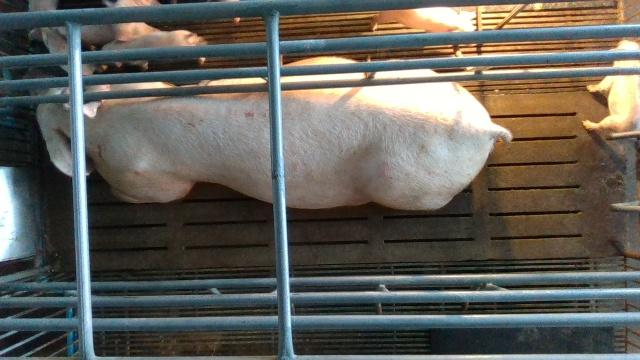piglet: (584, 39, 640, 132), (101, 29, 207, 70), (370, 7, 477, 32), (41, 27, 95, 76), (57, 22, 160, 47)
sow-sit: (22, 54, 513, 212)
